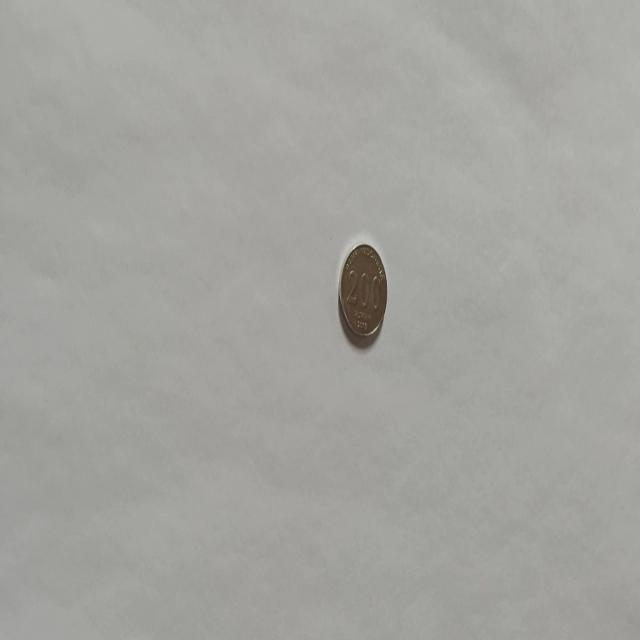dua ratus rupiah: (338, 240, 388, 340)
